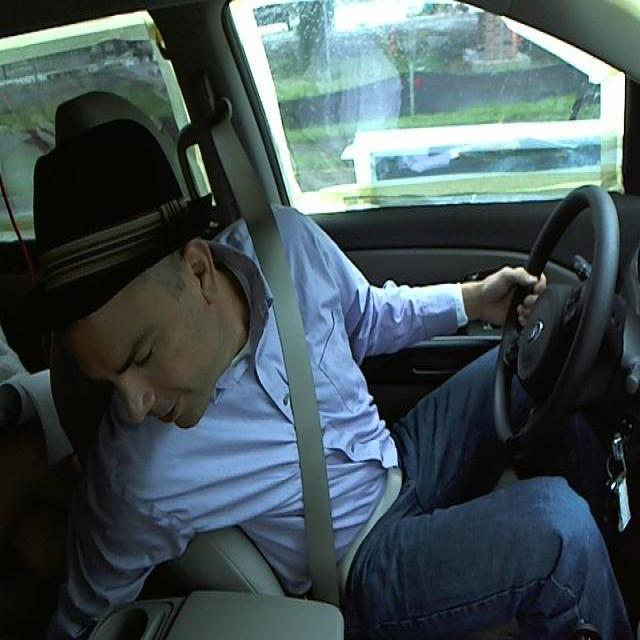seatbelt: (244, 231, 366, 597)
